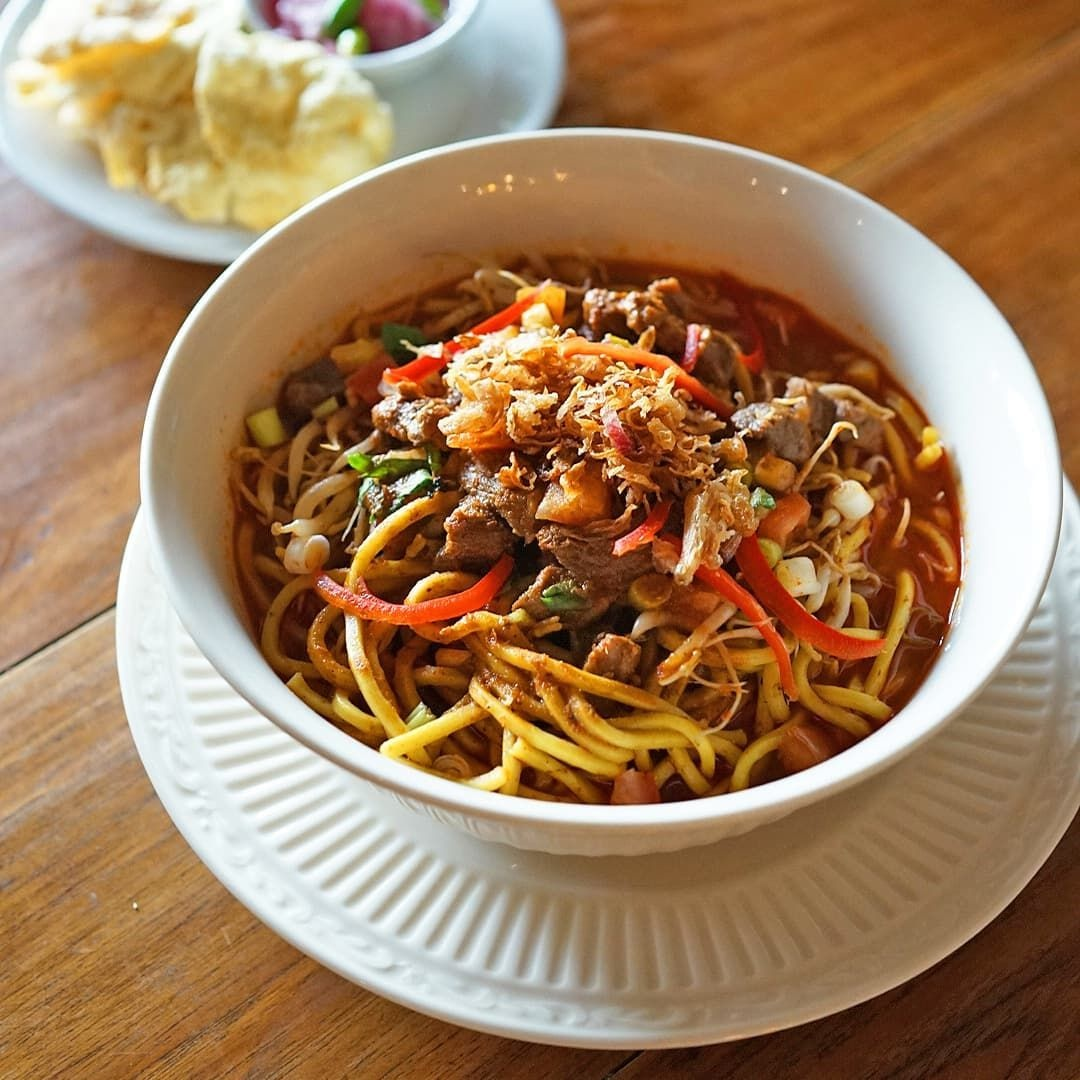mie_aceh: (236, 248, 957, 804)
